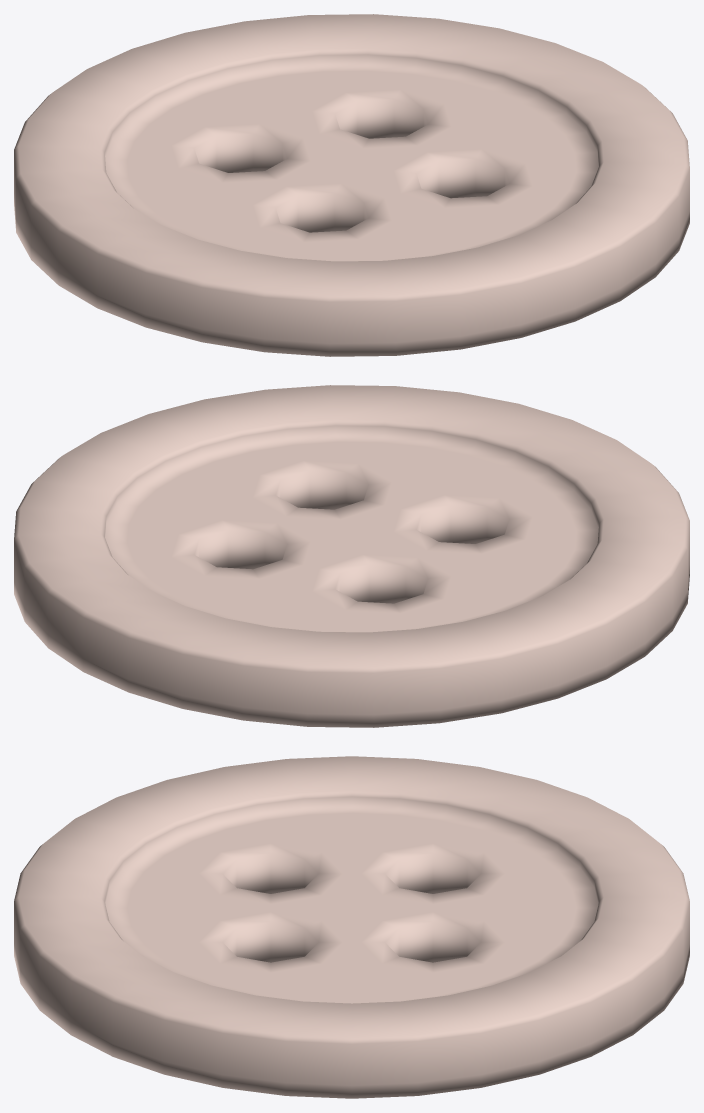
File: button.glb
The picture shows the model from 3 angles, top to bottom: view 1: azimuth 30°, elevation 25°; view 2: azimuth 150°, elevation 25°; view 3: azimuth 270°, elevation 25°; orthographic projection.
Parts seen in each view (by area): view 1: button.003; view 2: button.003; view 3: button.003.
Part boxes in pixels (x1,y1,x2,y2): button.003: (14, 14, 689, 356); button.003: (14, 385, 689, 727); button.003: (14, 756, 689, 1098).
Bounding box in the file's own units: 0.01 × 0.00102 × 0.01.
